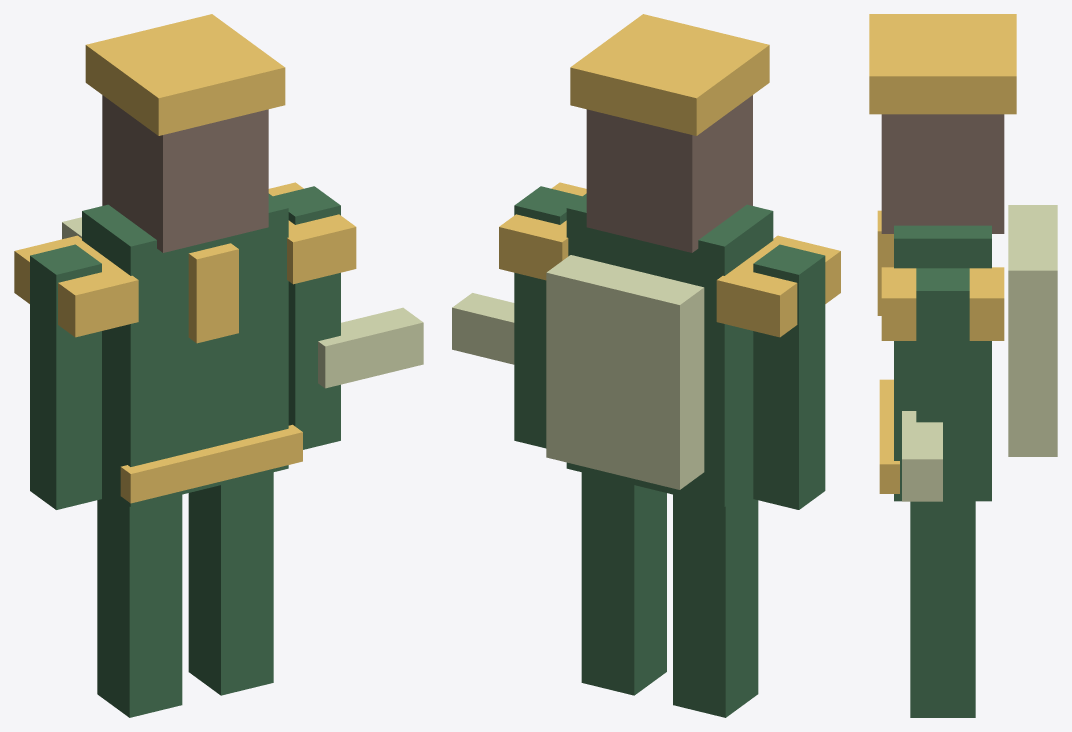
File: 12_lyric_whispercoil_scout_from_ranger.glb
3 views of the same model, side by side, from view 1: azimuth 30°, elevation 25°; view 2: azimuth 150°, elevation 25°; view 3: azimuth 270°, elevation 25° (orthographic).
Parts seen in each view (by area): view 1: Lyric Whispercoil, Scout from Ranger; view 2: Lyric Whispercoil, Scout from Ranger; view 3: Lyric Whispercoil, Scout from Ranger.
Boxes of the visible parts, left/top/right/bottom form: Lyric Whispercoil, Scout from Ranger: left=14, top=14, right=423, bottom=717; Lyric Whispercoil, Scout from Ranger: left=452, top=14, right=840, bottom=717; Lyric Whispercoil, Scout from Ranger: left=869, top=14, right=1057, bottom=717.
Bounding box in the file's own units: 0.9891 × 1.66 × 0.4439.
